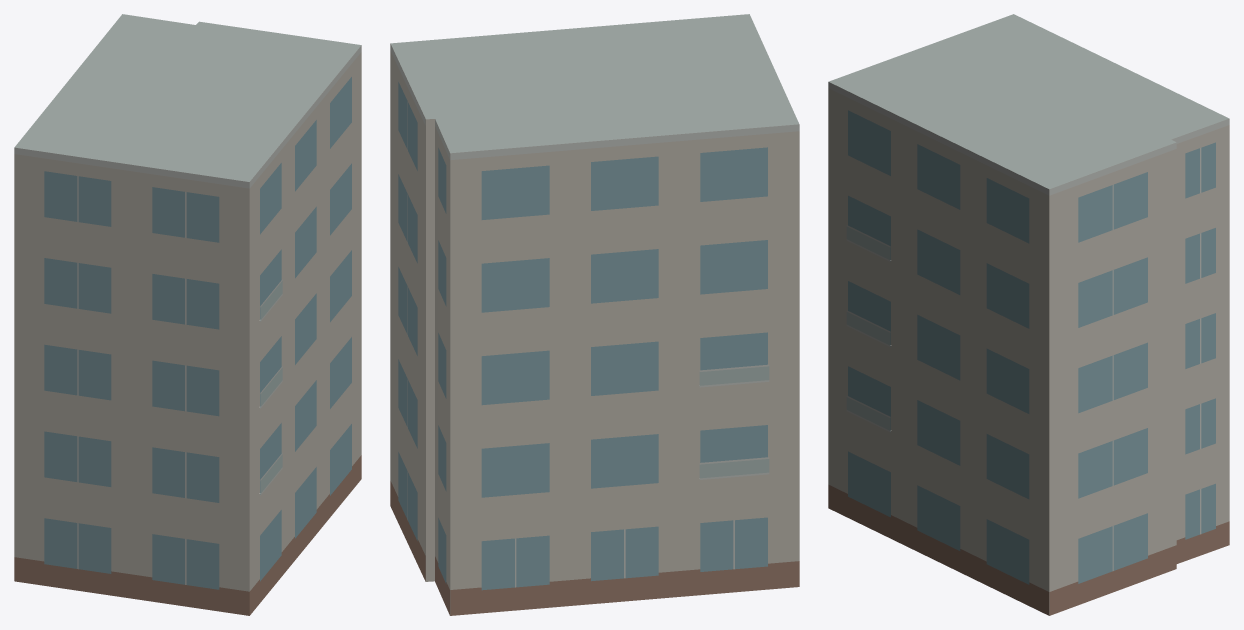
The model's file is survey-upis-32719275.glb.
3 views of the same model, side by side, from view 1: azimuth 30°, elevation 25°; view 2: azimuth 150°, elevation 25°; view 3: azimuth 270°, elevation 25° (orthographic). The views are drawn at different scales.
Visible parts, largest first — view 1: survey-upis-32719275.tmp; view 2: survey-upis-32719275.tmp; view 3: survey-upis-32719275.tmp.
Boxes of the visible parts, bbox=[...] form: survey-upis-32719275.tmp: bbox=[14, 14, 361, 615]; survey-upis-32719275.tmp: bbox=[390, 14, 799, 615]; survey-upis-32719275.tmp: bbox=[828, 14, 1229, 615].
Bounding box in the file's own units: 14.38 × 16.3 × 13.9.
